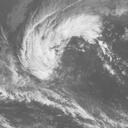cyclone: (17, 33, 63, 81)
